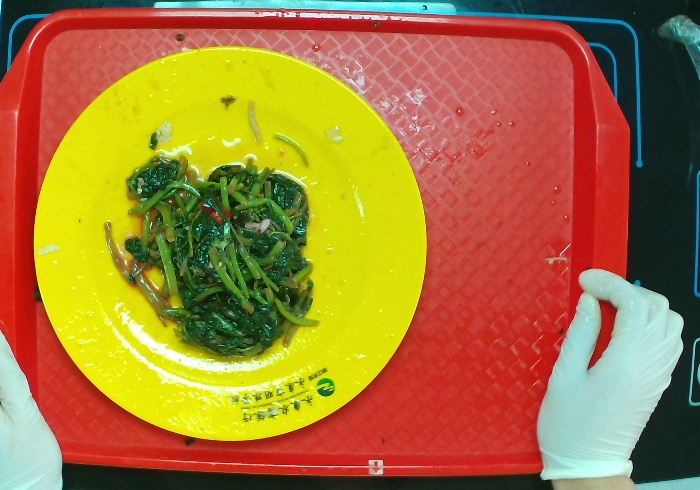YKMZ-Huang_Se_Mian_Pan: (26, 44, 434, 447)
